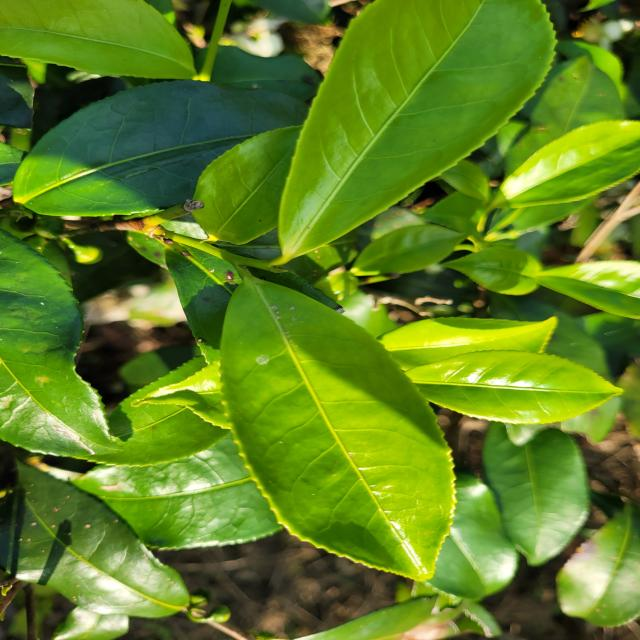Category B(2-4 days): (191, 242, 500, 602)
